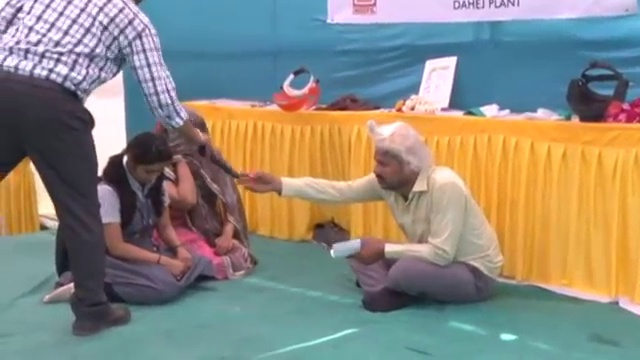helmet_off: (362, 126, 432, 190), (122, 132, 173, 186)
person: (0, 0, 207, 336), (240, 129, 503, 309), (42, 129, 219, 306), (162, 108, 261, 280)
